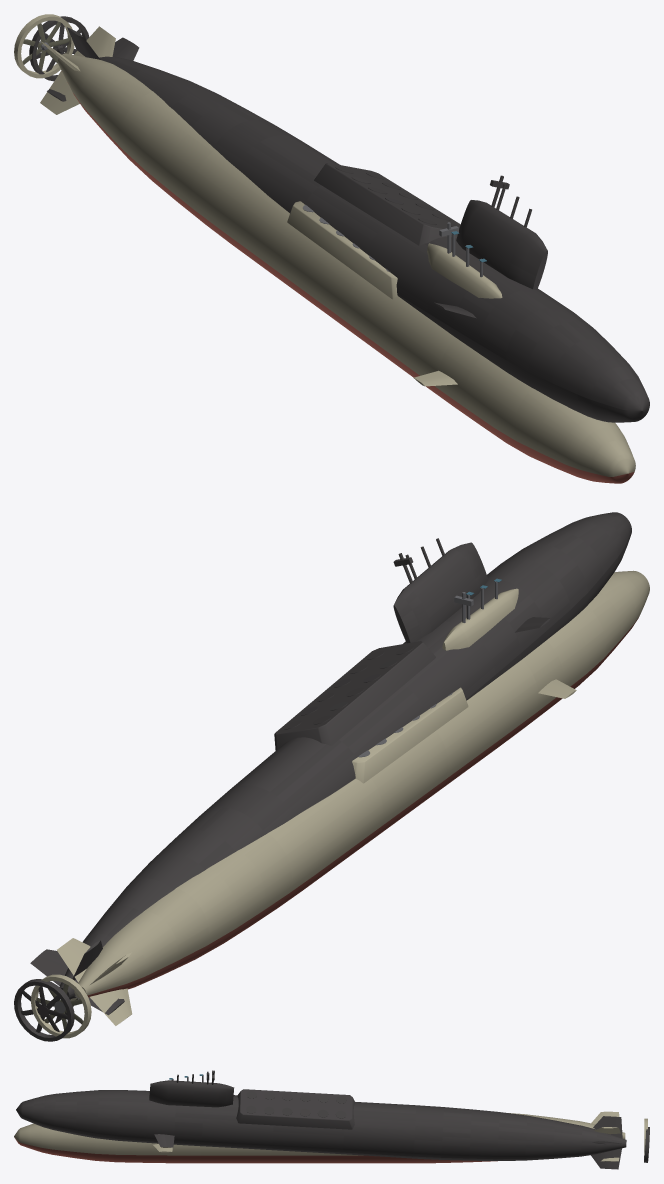
Rendered from nuclearSub__dreadnought_class.glb.
3 views of the same model, one above another, from view 1: azimuth 30°, elevation 25°; view 2: azimuth 150°, elevation 25°; view 3: azimuth 270°, elevation 25° (orthographic). The views are drawn at different scales.
Parts seen in each view (by area): view 1: Hull_Mesh, Wreck; view 2: Wreck, Hull_Mesh; view 3: Wreck, Hull_Mesh.
Part boxes in pixels (bbox=[...]): Hull_Mesh: bbox=[14, 14, 635, 483]; Wreck: bbox=[29, 16, 649, 422]; Wreck: bbox=[14, 512, 631, 1041]; Hull_Mesh: bbox=[31, 570, 649, 1038]; Wreck: bbox=[16, 1070, 649, 1169]; Hull_Mesh: bbox=[14, 1074, 647, 1163].
Size of what is drawn, in the model's own units: 22.47 by 27.6 by 152.
